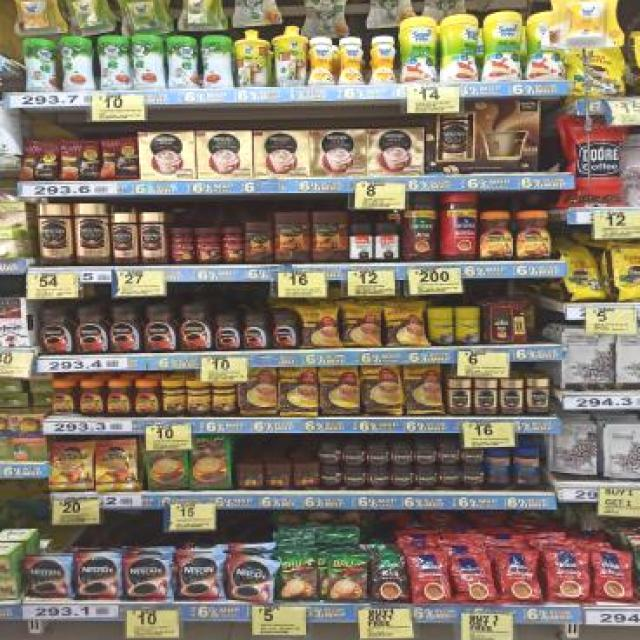Coffee: (123, 556, 174, 602), (176, 554, 224, 602), (94, 440, 137, 492), (228, 559, 274, 603), (50, 444, 93, 491), (76, 554, 121, 598), (76, 203, 108, 264), (39, 204, 71, 264), (27, 556, 72, 598), (516, 211, 552, 260), (480, 211, 513, 260), (178, 308, 212, 351), (76, 308, 108, 353), (143, 308, 175, 351), (110, 308, 140, 353), (40, 308, 70, 353), (112, 214, 137, 264), (140, 214, 164, 264), (242, 314, 268, 350), (499, 379, 524, 414), (474, 379, 498, 414), (272, 315, 297, 348), (214, 316, 238, 349), (448, 379, 470, 414), (527, 379, 550, 412), (50, 383, 74, 414), (134, 383, 158, 414), (107, 382, 130, 414), (79, 383, 102, 414), (320, 444, 343, 464), (344, 445, 366, 465), (462, 466, 486, 484), (414, 466, 438, 484), (365, 468, 390, 485), (366, 446, 389, 464), (438, 466, 461, 484), (414, 446, 436, 464), (321, 469, 344, 486), (392, 468, 413, 486), (438, 444, 458, 462), (390, 446, 412, 462), (346, 468, 364, 486), (462, 449, 482, 462)
